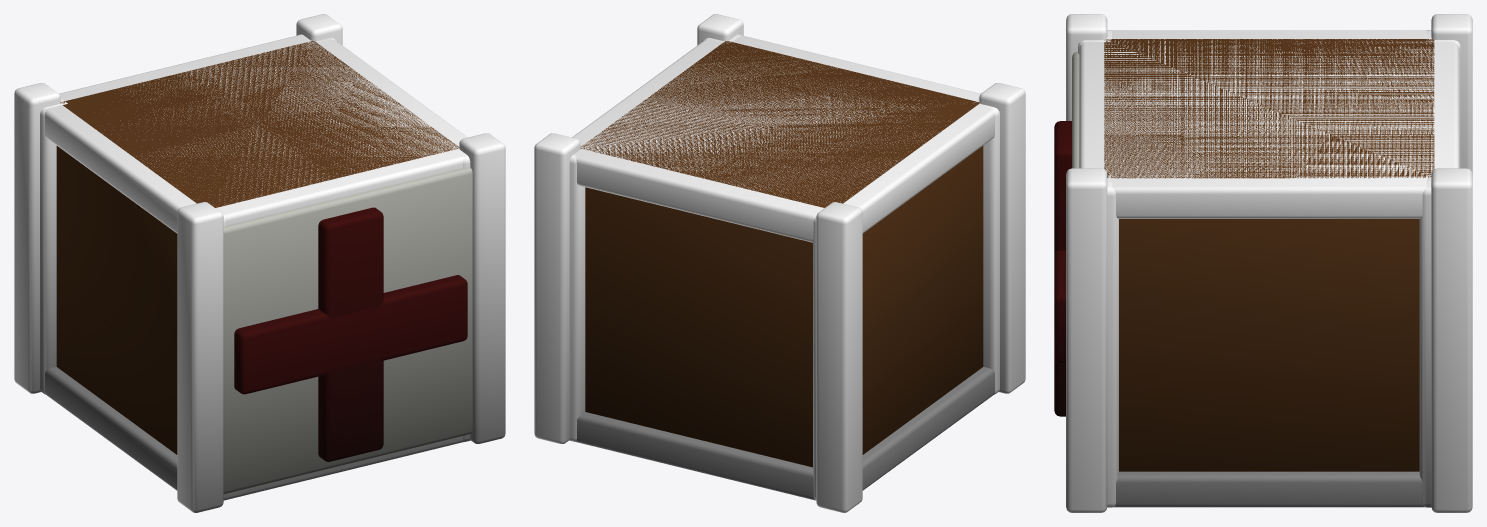
The model's file is supply-crate.obj.
3 views of the same model, side by side, from view 1: azimuth 30°, elevation 25°; view 2: azimuth 150°, elevation 25°; view 3: azimuth 270°, elevation 25° (orthographic). The views are drawn at different scales.
Parts seen in each view (by area): view 1: supply-crate; view 2: supply-crate; view 3: supply-crate.
Part boxes in pixels (box(x1,y1,x2,y2)): supply-crate: box(14, 14, 505, 512); supply-crate: box(534, 14, 1025, 512); supply-crate: box(1054, 14, 1472, 512).
Bounding box in the file's own units: 0.69 × 0.62 × 0.71.
